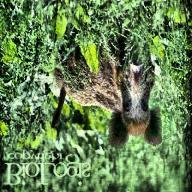boar: (45, 15, 182, 152)
